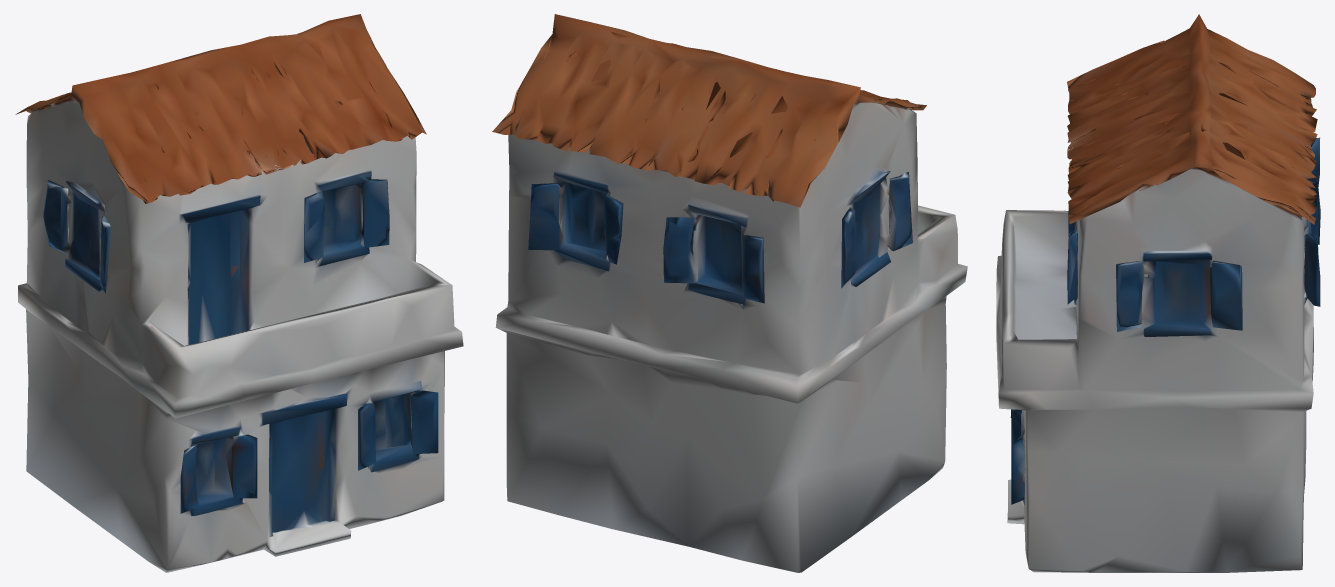
The model's file is villa_lo.glb.
The picture shows the model from 3 angles, left to right: view 1: azimuth 30°, elevation 25°; view 2: azimuth 150°, elevation 25°; view 3: azimuth 270°, elevation 25°; orthographic projection. The views are drawn at different scales.
Size of the model in its own units: 1.43 by 1.9 by 1.33.
